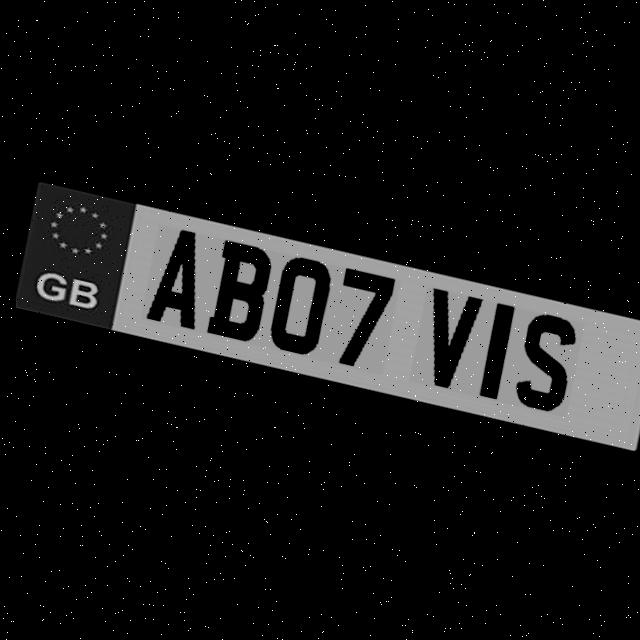license-plates: (16, 181, 640, 450)
